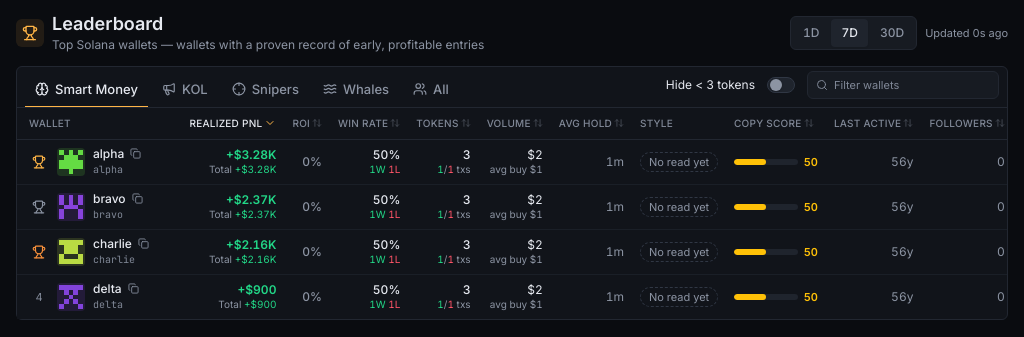
Test: leaderboard ranks › crowns the top of the PnL ranking, and nobody once the table is sorted ascending
Expected: the row named "Rank 1" shows "alpha", [93, 146, 124, 161]
// Realized PnL is the default sort: one click flips it to ascending (the bottom of the ranking).
Click the button "Realized PnL": {"x": 233, "y": 123} [190, 116, 276, 130]
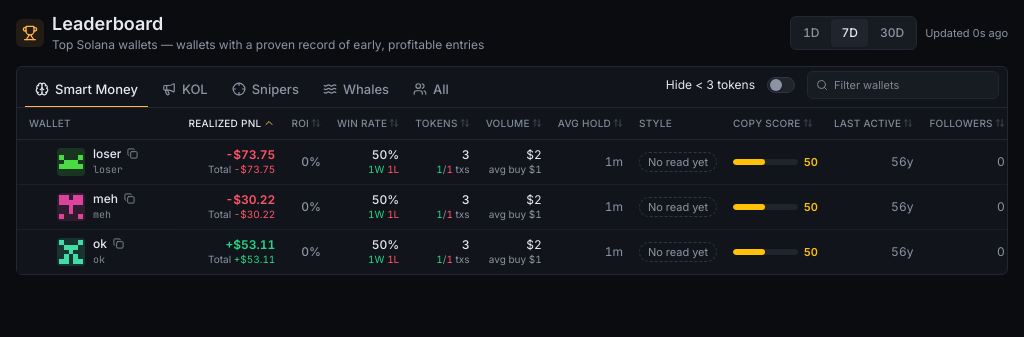
Now the link "loser" is shown, box [93, 146, 121, 161]
